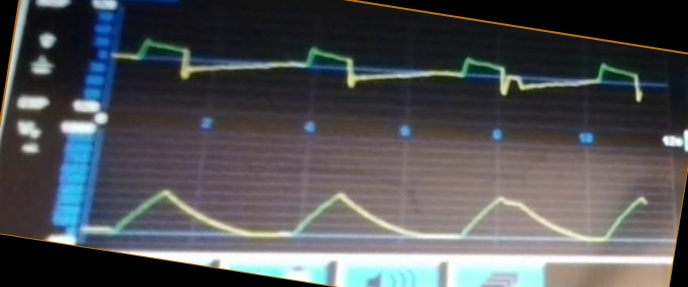Premature_cycling Flow: (116, 37, 645, 116)
Premature_cycling Volume: (92, 181, 656, 249)
